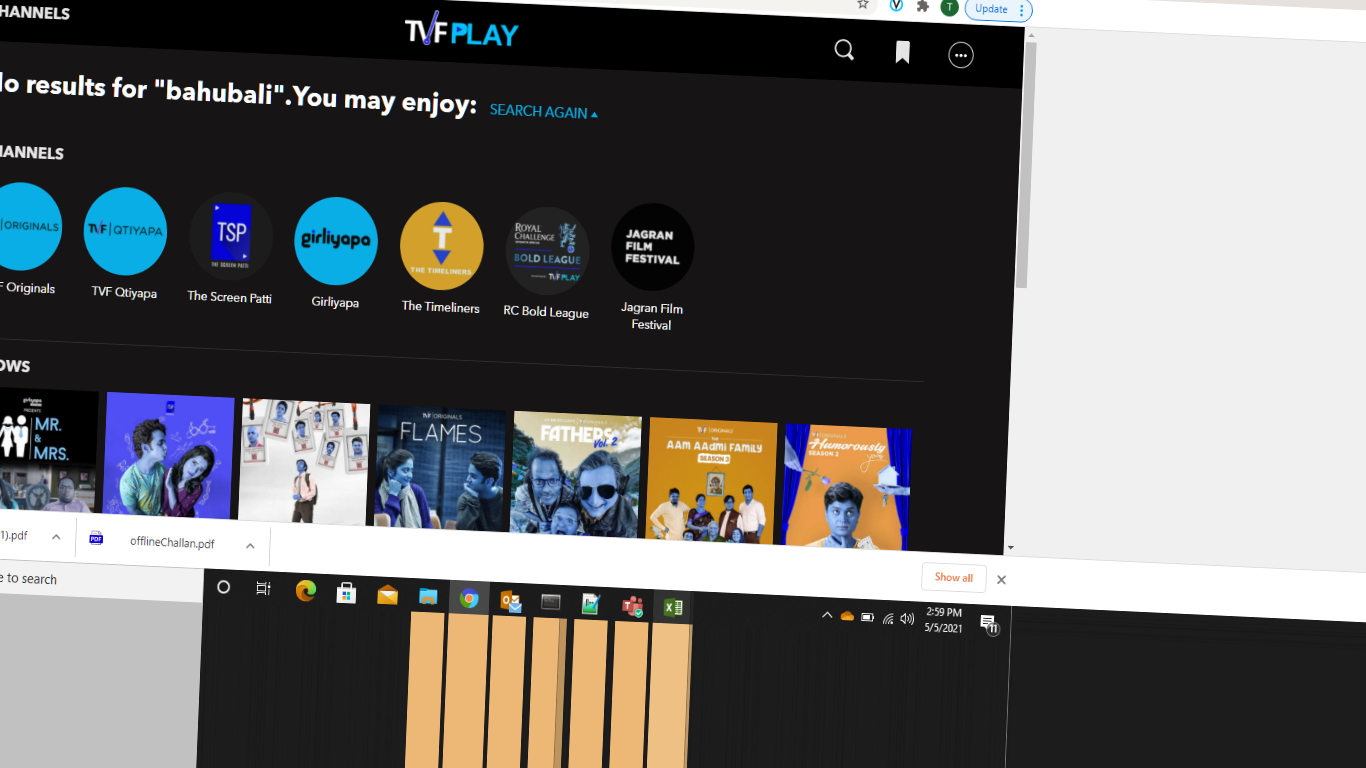resultsfound: (11, 53, 616, 137)
searchicon: (822, 23, 866, 67)
